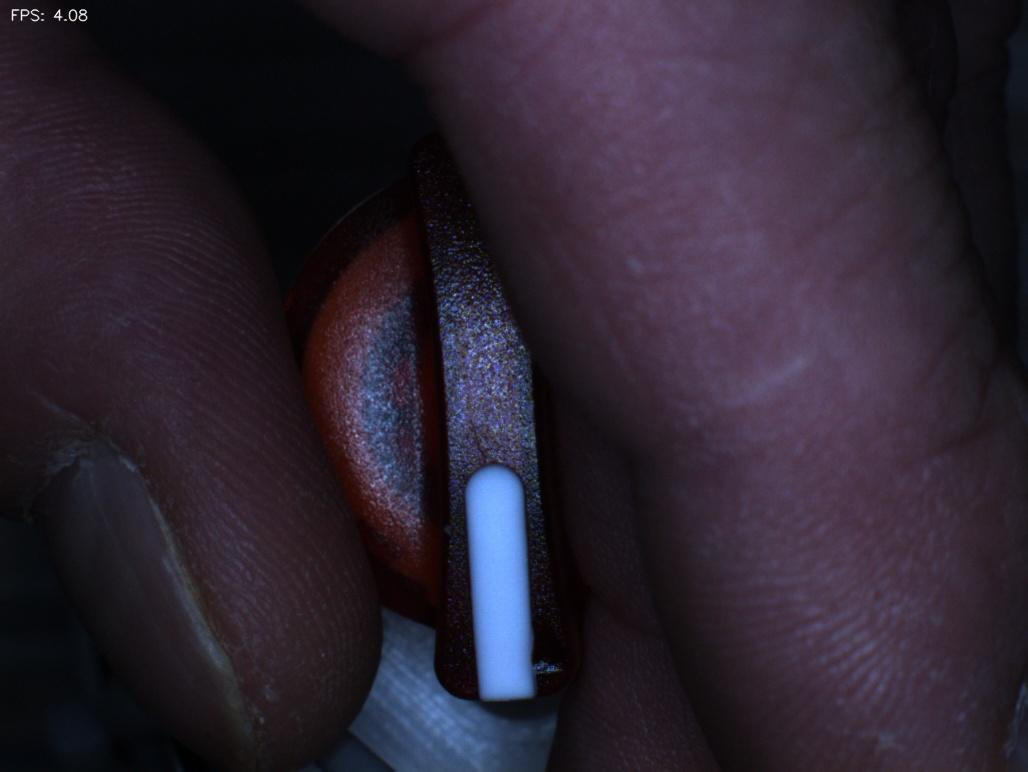Choc: (506, 601, 590, 704)
